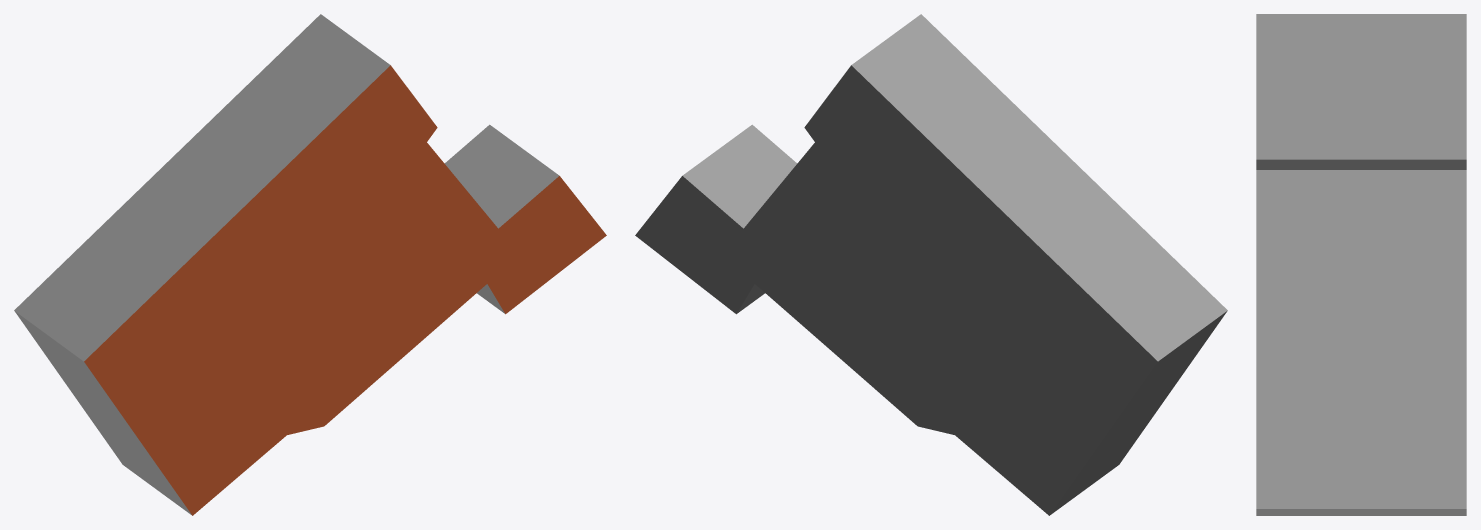
Rendered from construction_0365_assumed_A_Casa_h6m.obj.
3 views of the same model, side by side, from view 1: azimuth 30°, elevation 25°; view 2: azimuth 150°, elevation 25°; view 3: azimuth 270°, elevation 25° (orthographic). The views are drawn at different scales.
Visible parts, largest first — view 1: construction_0365_assumed_A_Casa; view 2: construction_0365_assumed_A_Casa; view 3: construction_0365_assumed_A_Casa.
Part boxes in pixels (box(x1,y1,x2,y2)): construction_0365_assumed_A_Casa: box(14, 14, 606, 515); construction_0365_assumed_A_Casa: box(635, 14, 1227, 515); construction_0365_assumed_A_Casa: box(1256, 14, 1466, 515).
Bounding box in the file's own units: 25.9 × 19.05 × 6.
